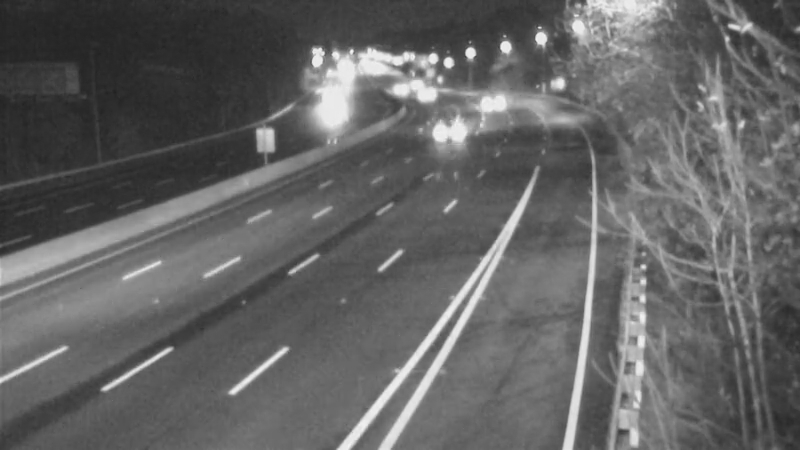vehicle: (403, 70, 453, 120), (370, 61, 420, 111), (462, 77, 512, 127), (415, 108, 465, 158), (296, 87, 346, 137)
